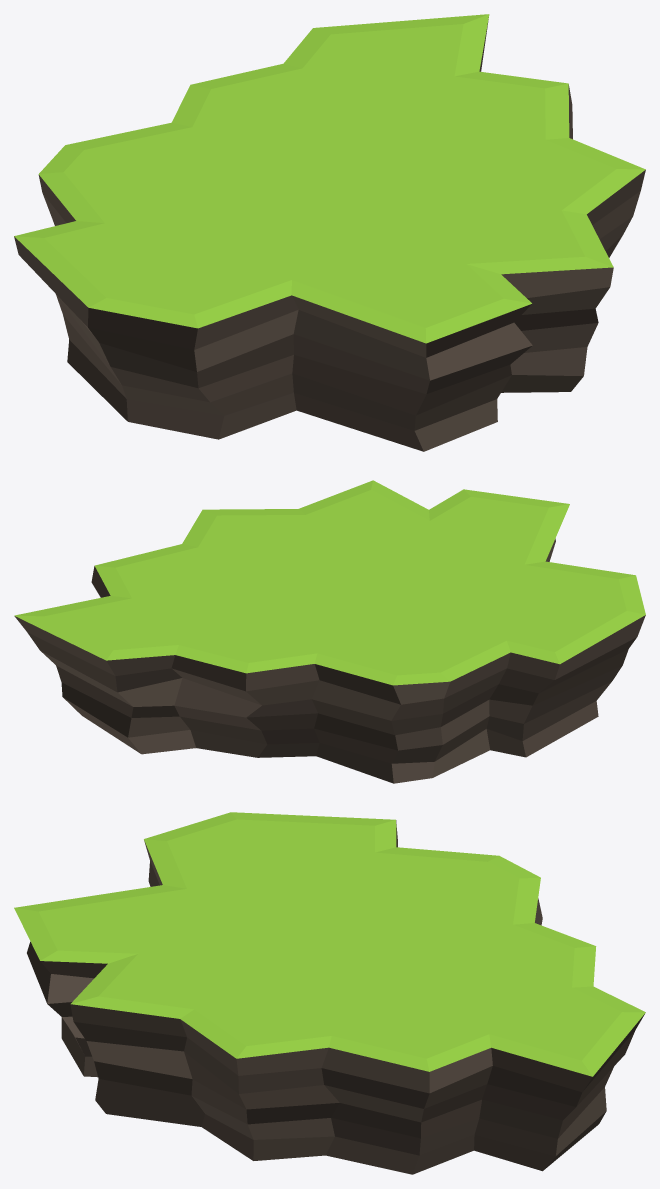
The model's file is main.fbx.
3 renders of one model, top to bottom at view 1: azimuth 30°, elevation 25°; view 2: azimuth 150°, elevation 25°; view 3: azimuth 270°, elevation 25°, orthographic. The views are drawn at different scales.
Parts seen in each view (by area): view 1: IslandMain; view 2: IslandMain; view 3: IslandMain.
Boxes of the visible parts, box(x1,y1,x2,y2) form: IslandMain: box(14, 14, 645, 451); IslandMain: box(14, 480, 645, 783); IslandMain: box(14, 812, 645, 1174).
Bounding box in the file's own units: 64.2 × 13.91 × 64.91.
